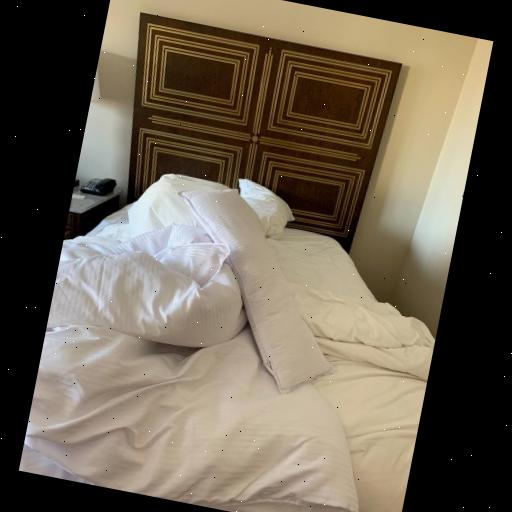messy_bed: (19, 10, 426, 512)
